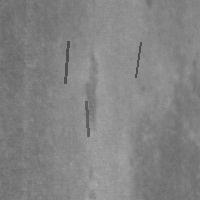inclusion: (130, 78, 198, 198), (79, 46, 101, 136), (133, 40, 142, 79), (63, 39, 70, 85), (84, 99, 90, 138)
